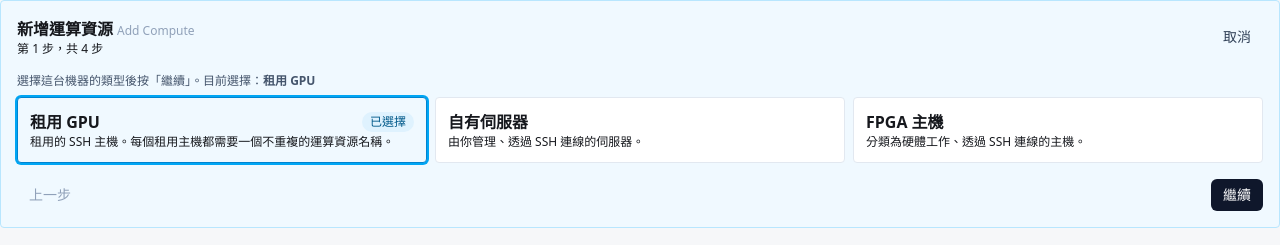
Test: AddComputeWizard kind selection › shows which kind is selected and lets the user switch it
Expected: the text "已選擇" is shown, [362,112,414,132]
Expected: the text "選擇這台機器的類型後按「繼續」。目前選擇：租用 GPU" is shown, [17,72,315,89]
Click the button "自有伺服器 由你管理、透過 SSH 連線的伺服器。".
click(640, 130)  # box [435,97,845,163]
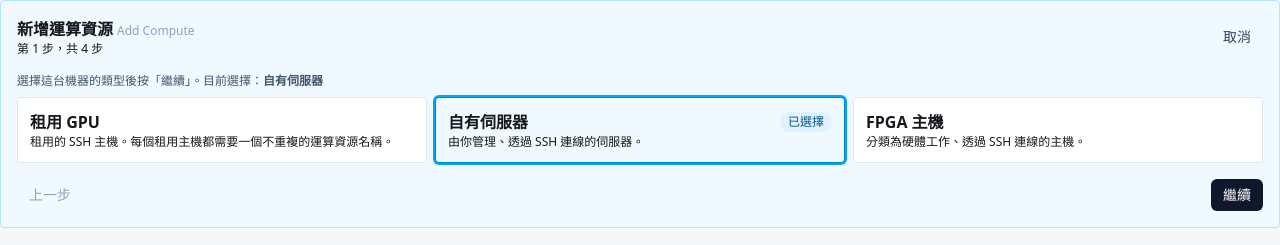
Expected: the text "已選擇" is shown, [780,112,832,132]
Expected: the text "選擇這台機器的類型後按「繼續」。目前選擇：自有伺服器" is shown, [17,72,323,89]
